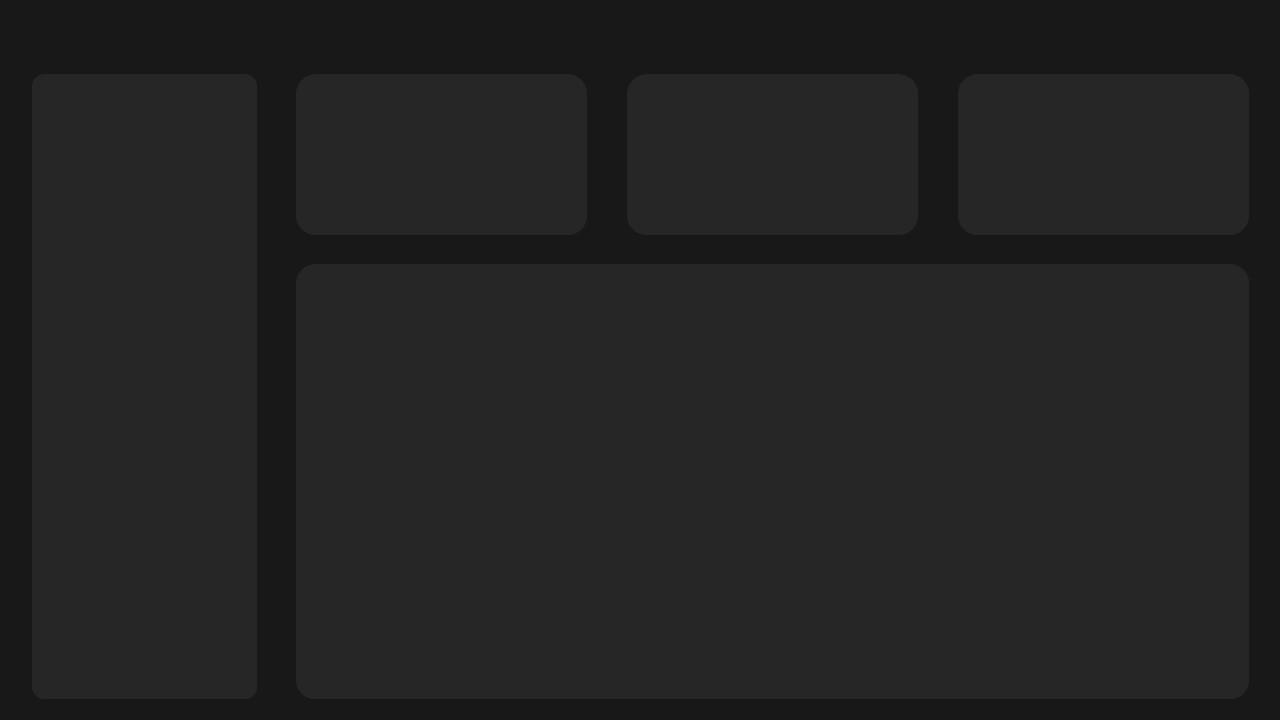

The dashboard page shown, as its layout file describes it:
{"tool":"powerbi","page":{"name":"Головна","canvas":[1280,720],"ordinal":0},"visuals":[{"type":"shape","box":[970,168.8,263.8,56.2],"z":0},{"type":"shape","box":[640,168.8,263.8,56.2],"z":1000},{"type":"shape","box":[310,168.8,263.8,56.2],"z":2000},{"type":"card","fields":{"Values":["df2.btc"]},"box":[353.3,116.7,140,45],"z":3000},{"type":"card","fields":{"Values":["df2.ETH_price"]},"box":[678.3,121.7,140,45],"z":4000},{"type":"card","fields":{"Values":["df2.BNB_price"]},"box":[1015,121.7,140,45],"z":5000},{"type":"card","fields":{"Values":["df2.Measure"]},"box":[310,193.8,90,31.2],"z":6000},{"type":"treemap","title":"Найбільша зміна ціни за 24г перші 50 монет( % )","fields":{"Group":["df2.name"],"Values":["Sum(df2.percent_change_24h)"]},"box":[310,276,924,414],"z":7000},{"type":"image","box":[301.4,77.1,58,58],"z":8000},{"type":"image","box":[964.3,77.1,58,58],"z":9000},{"type":"image","box":[632.9,77.1,58,58],"z":10000},{"type":"textbox","box":[360,85,120,41.7],"z":11000},{"type":"textbox","box":[1023.3,85,120,41.7],"z":12000},{"type":"textbox","box":[693.3,85,120,41.7],"z":13000},{"type":"card","fields":{"Values":["df2.ETH_7d_change"]},"box":[813.8,193.8,90,31.2],"z":14000},{"type":"card","fields":{"Values":["df2.ETH_24_change"]},"box":[640,193.8,90,31.2],"z":15000},{"type":"card","fields":{"Values":["df2.BNB_24_change"]},"box":[970,193.8,90,31.2],"z":16000},{"type":"card","fields":{"Values":["df2.BNB_7d_change"]},"box":[1141.2,193.8,90,31.2],"z":17000},{"type":"card","fields":{"Values":["df2.BTC_7d_change"]},"box":[483.8,193.8,90,31.2],"z":18000},{"type":"textbox","box":[475.4,168,107.5,33.6],"z":19000},{"type":"textbox","box":[799.6,168,104.1,33.6],"z":20000},{"type":"textbox","box":[1128.8,168,104.1,33.6],"z":21000},{"type":"textbox","box":[310,168.8,110,32.5],"z":22000},{"type":"textbox","box":[640,168.8,108.8,32.5],"z":23000},{"type":"textbox","box":[970,168.8,115,32.5],"z":24000},{"type":"textbox","box":[31.7,0,1218.3,60],"z":25000},{"type":"pageNavigator","box":[43.7,144.5,199.9,339.3],"z":26000}]}

Visuals, with their boxes in screenshot pixels (x1, y1, x2, y2), scaled from the page's 1280x720 canvas onto the 1280x720 screenshot:
shape: [left=970, top=169, right=1234, bottom=225]
shape: [left=640, top=169, right=904, bottom=225]
shape: [left=310, top=169, right=574, bottom=225]
card - df2.btc: [left=353, top=117, right=493, bottom=162]
card - df2.ETH_price: [left=678, top=122, right=818, bottom=167]
card - df2.BNB_price: [left=1015, top=122, right=1155, bottom=167]
card - df2.Measure: [left=310, top=194, right=400, bottom=225]
"Найбільша зміна ціни за 24г перші 50 монет( % )" treemap: [left=310, top=276, right=1234, bottom=690]
image: [left=301, top=77, right=359, bottom=135]
image: [left=964, top=77, right=1022, bottom=135]
image: [left=633, top=77, right=691, bottom=135]
textbox: [left=360, top=85, right=480, bottom=127]
textbox: [left=1023, top=85, right=1143, bottom=127]
textbox: [left=693, top=85, right=813, bottom=127]
card - df2.ETH_7d_change: [left=814, top=194, right=904, bottom=225]
card - df2.ETH_24_change: [left=640, top=194, right=730, bottom=225]
card - df2.BNB_24_change: [left=970, top=194, right=1060, bottom=225]
card - df2.BNB_7d_change: [left=1141, top=194, right=1231, bottom=225]
card - df2.BTC_7d_change: [left=484, top=194, right=574, bottom=225]
textbox: [left=475, top=168, right=583, bottom=202]
textbox: [left=800, top=168, right=904, bottom=202]
textbox: [left=1129, top=168, right=1233, bottom=202]
textbox: [left=310, top=169, right=420, bottom=201]
textbox: [left=640, top=169, right=749, bottom=201]
textbox: [left=970, top=169, right=1085, bottom=201]
textbox: [left=32, top=0, right=1250, bottom=60]
pageNavigator: [left=44, top=144, right=244, bottom=484]
